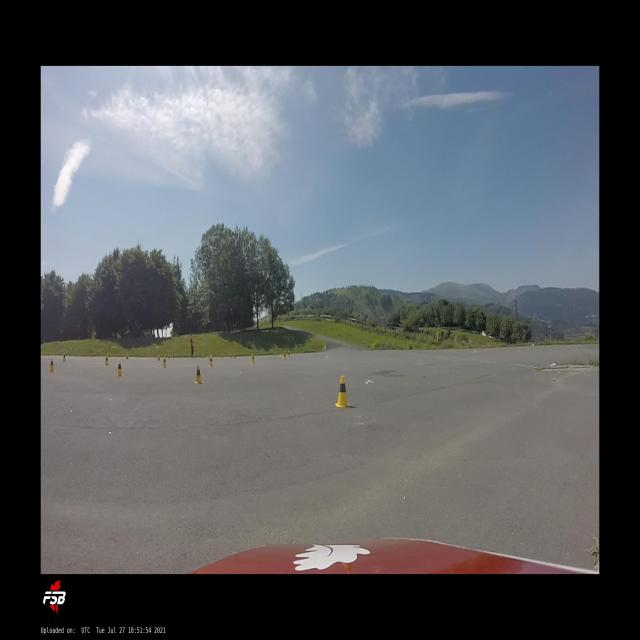yellow_cone: (335, 377, 350, 408), (195, 365, 203, 384), (50, 359, 54, 372), (118, 363, 122, 376), (105, 354, 109, 366), (209, 355, 213, 366), (163, 356, 166, 368), (63, 352, 65, 361), (252, 354, 254, 363), (284, 352, 286, 360)
